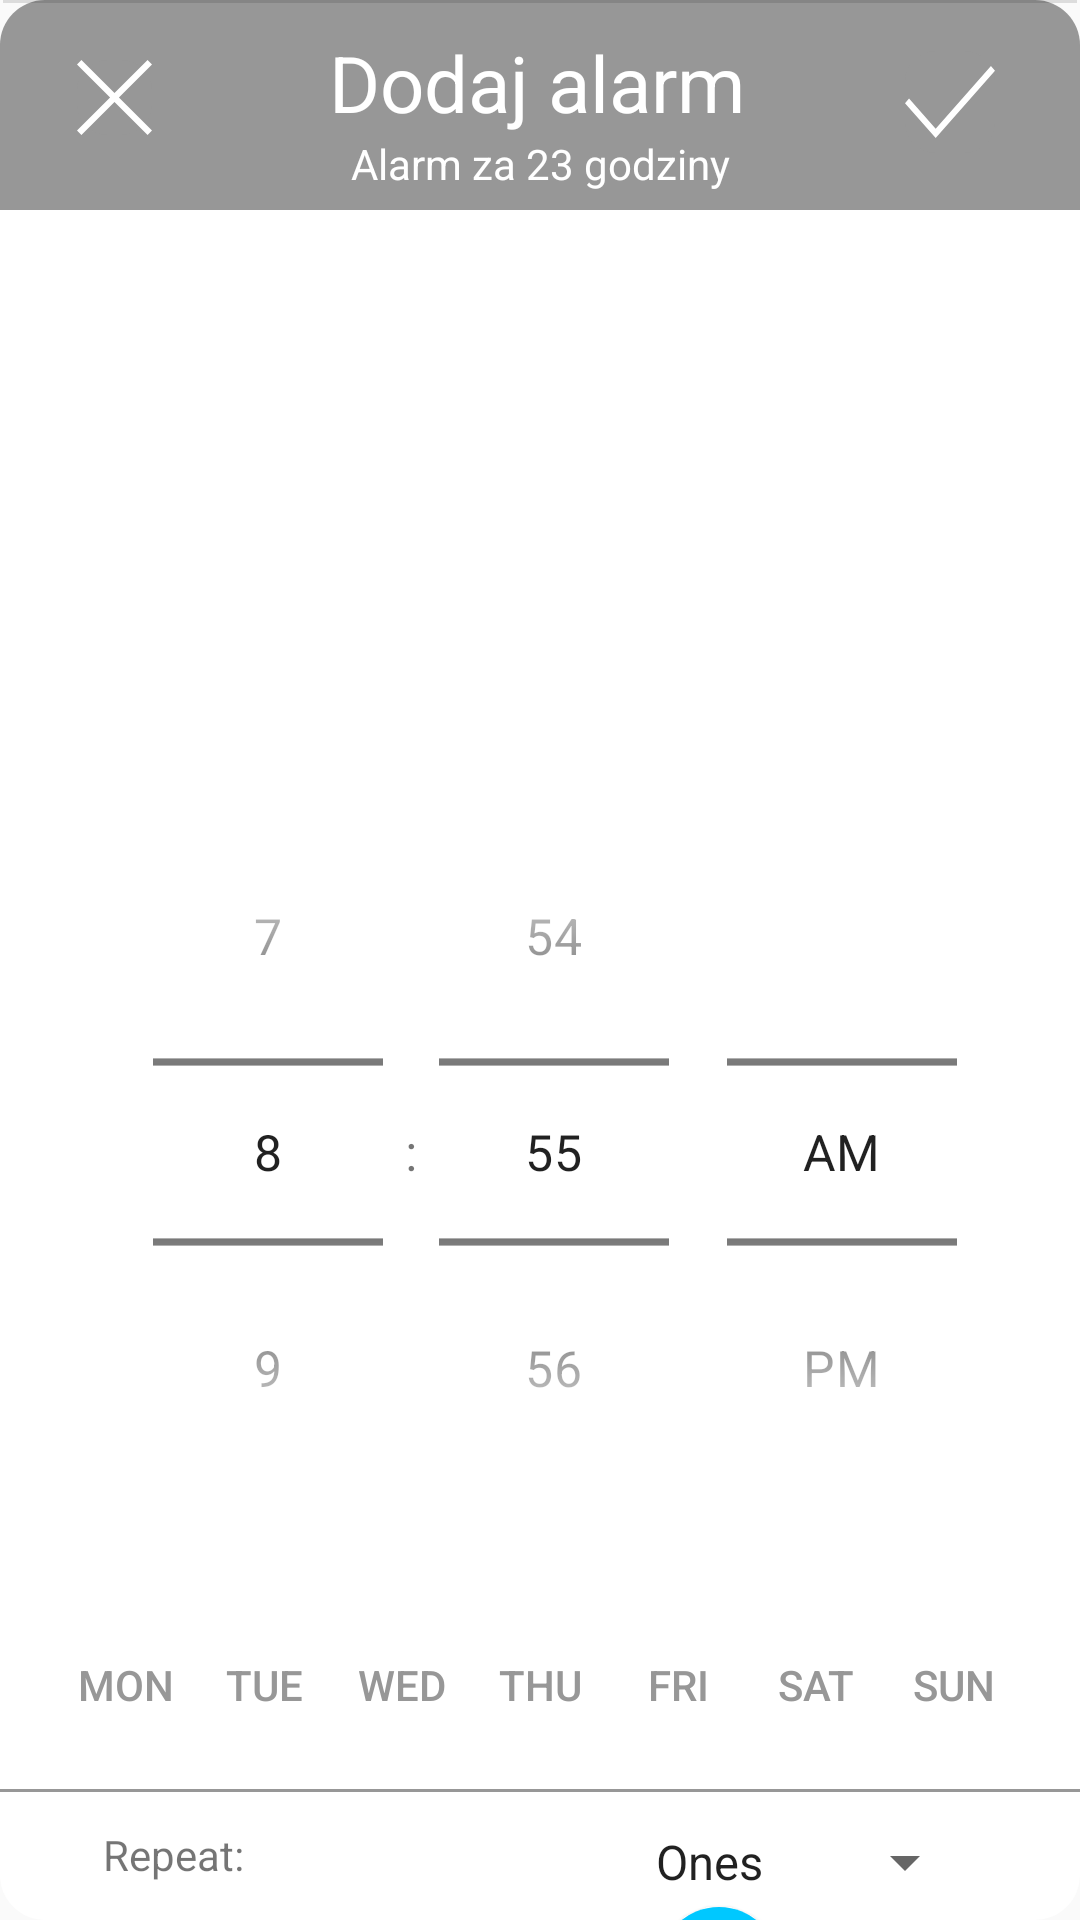

Screen size 1080w x 1920h. Icon name, then its box in pixels as bbox(x1, y1, x2, y2):
checked: bbox(905, 66, 995, 138)
close: bbox(77, 60, 152, 135)
